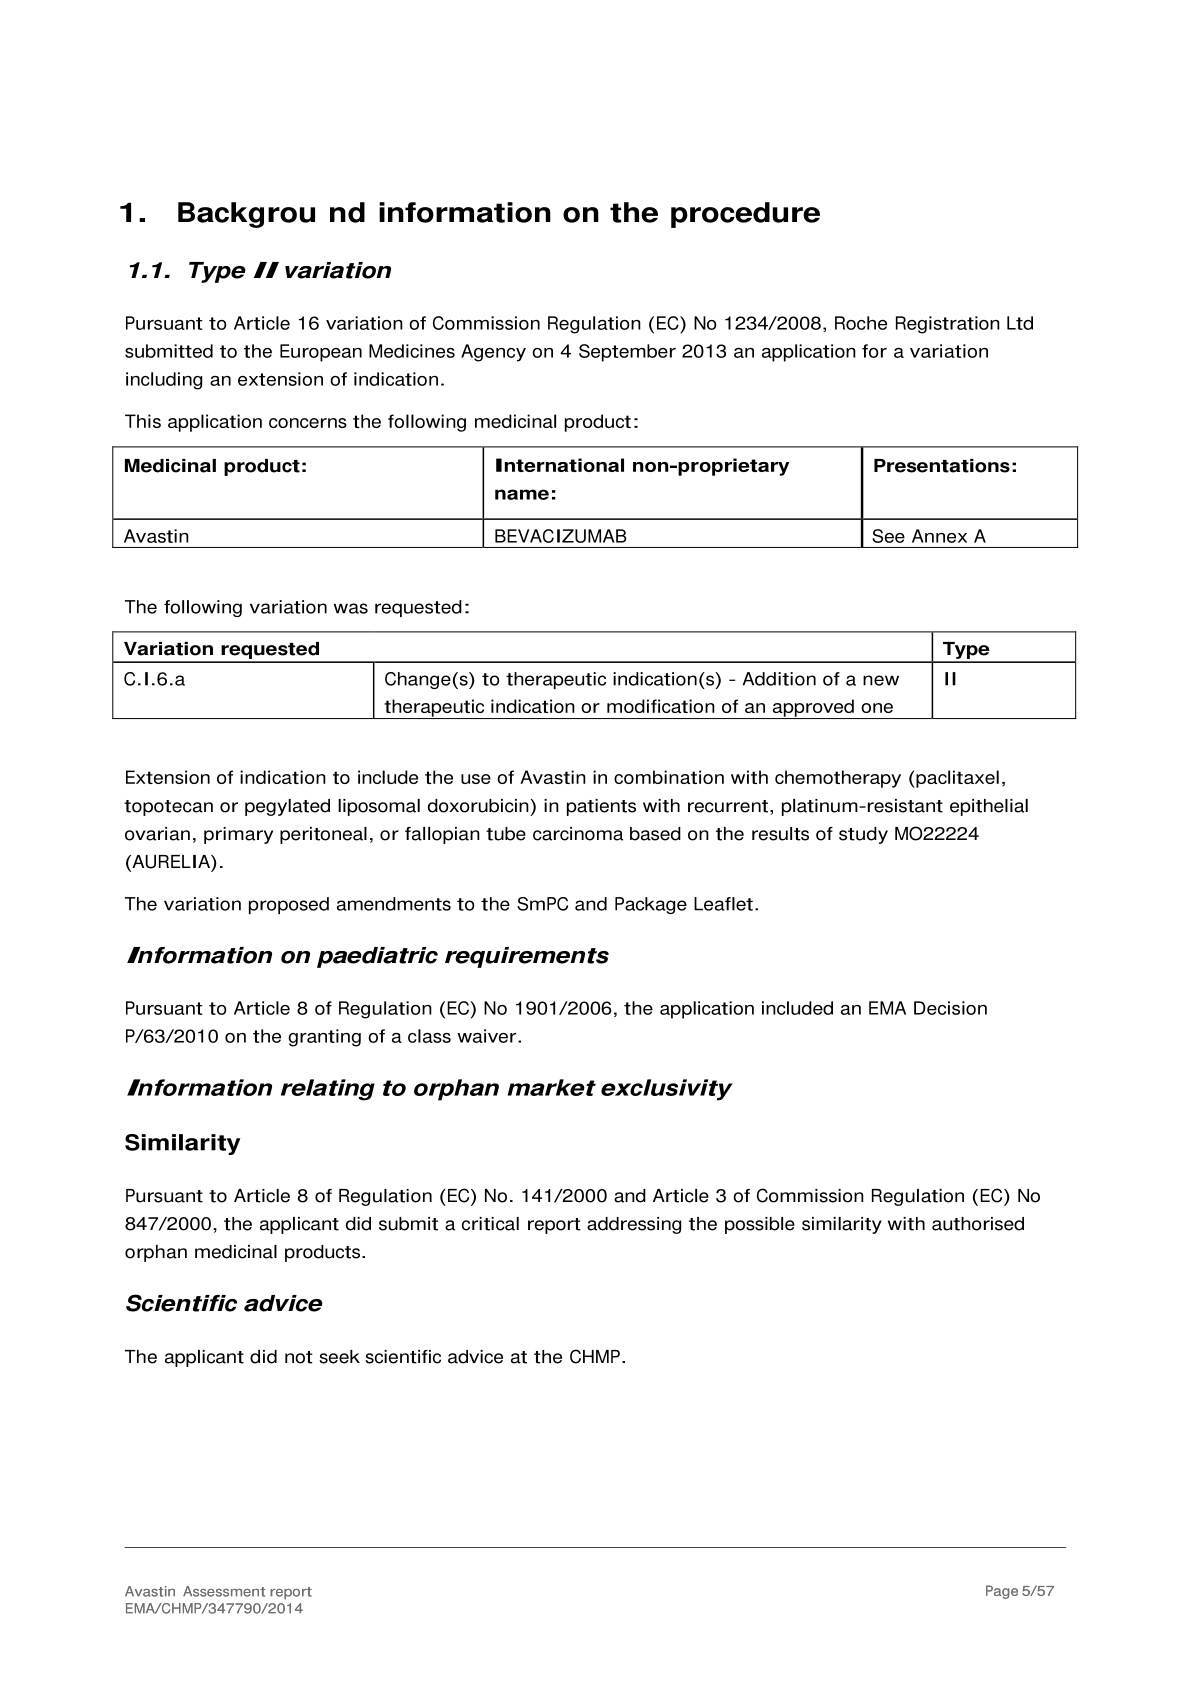full_lined: (112, 445, 1079, 549)
merged_cells: (112, 631, 1077, 720)
